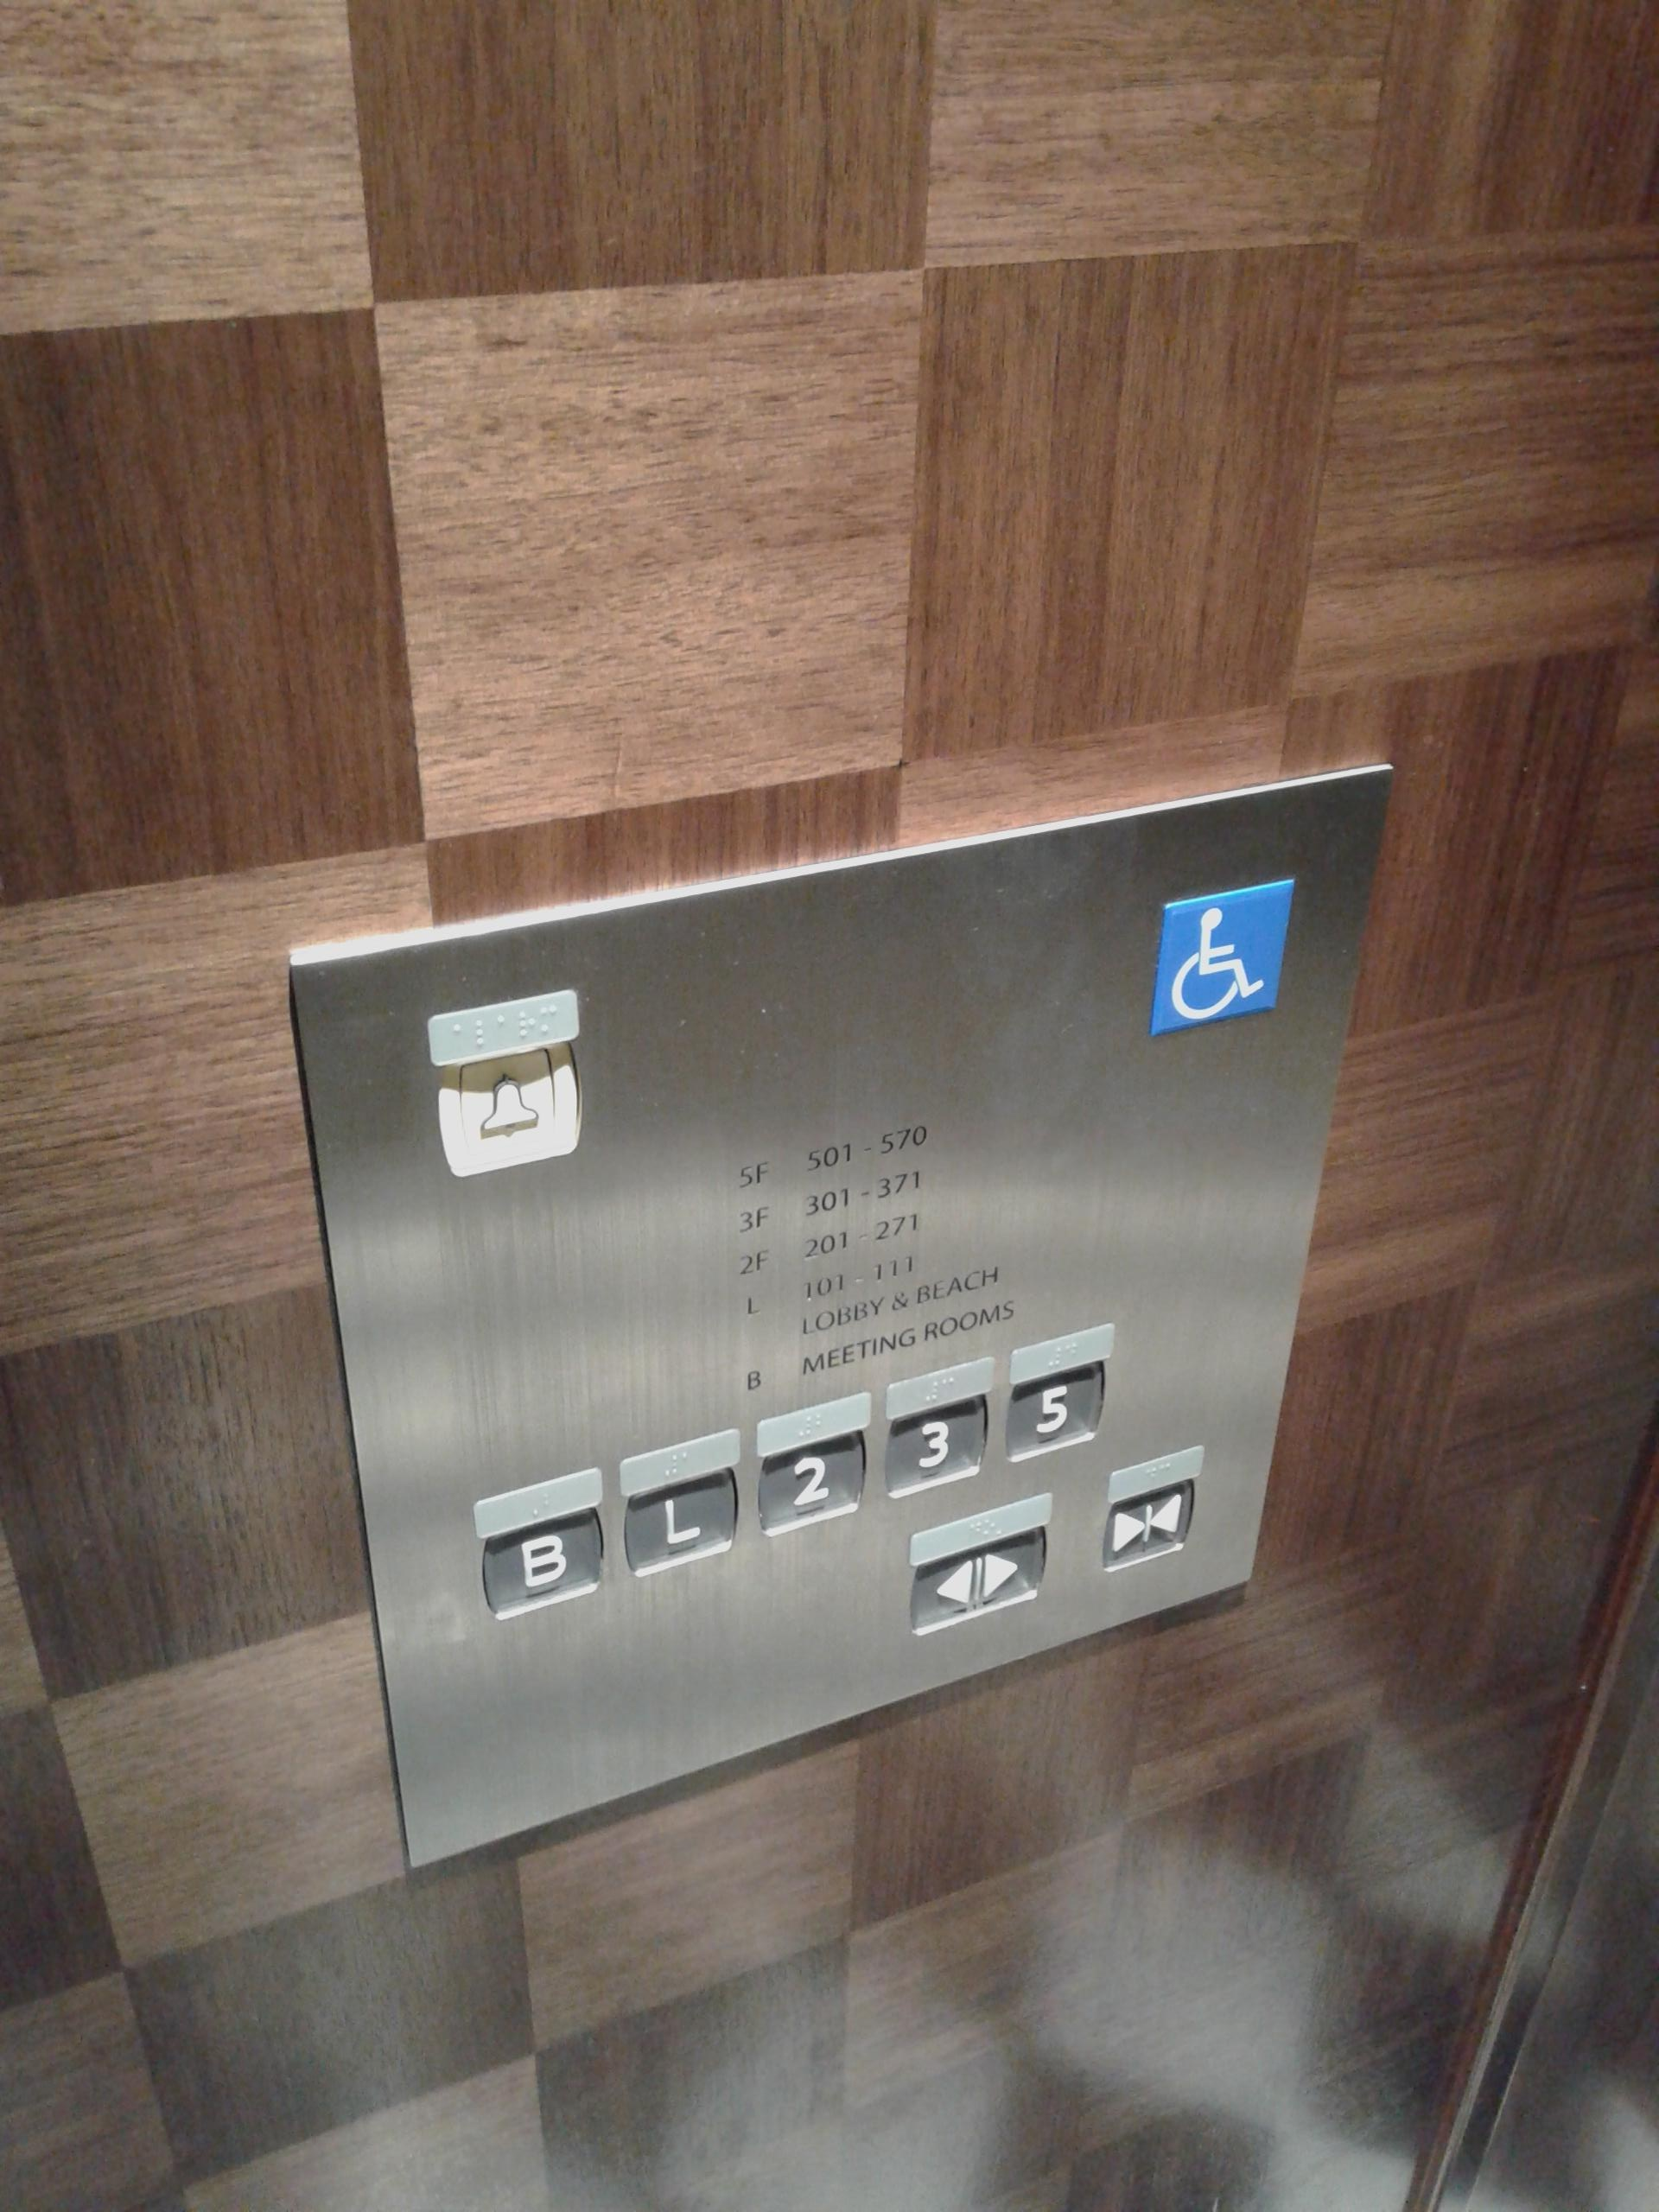2: (749, 1383, 875, 1541)
3: (878, 1350, 995, 1503)
5: (1000, 1318, 1117, 1467)
B: (469, 1465, 610, 1629)
CH: (1140, 873, 1302, 1045)
L: (613, 1425, 746, 1583)
alarm: (422, 984, 594, 1186)
close: (1094, 1439, 1208, 1578)
open: (903, 1487, 1054, 1641)
